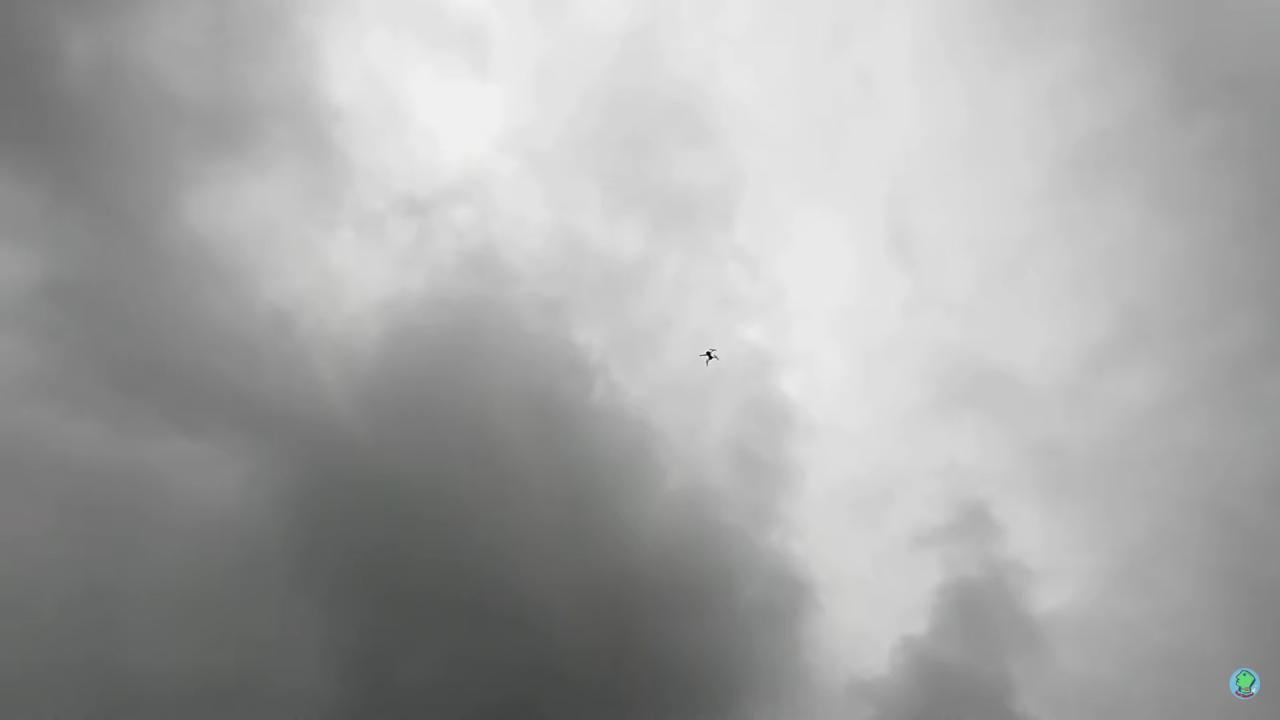Drone: (693, 342, 725, 371)
